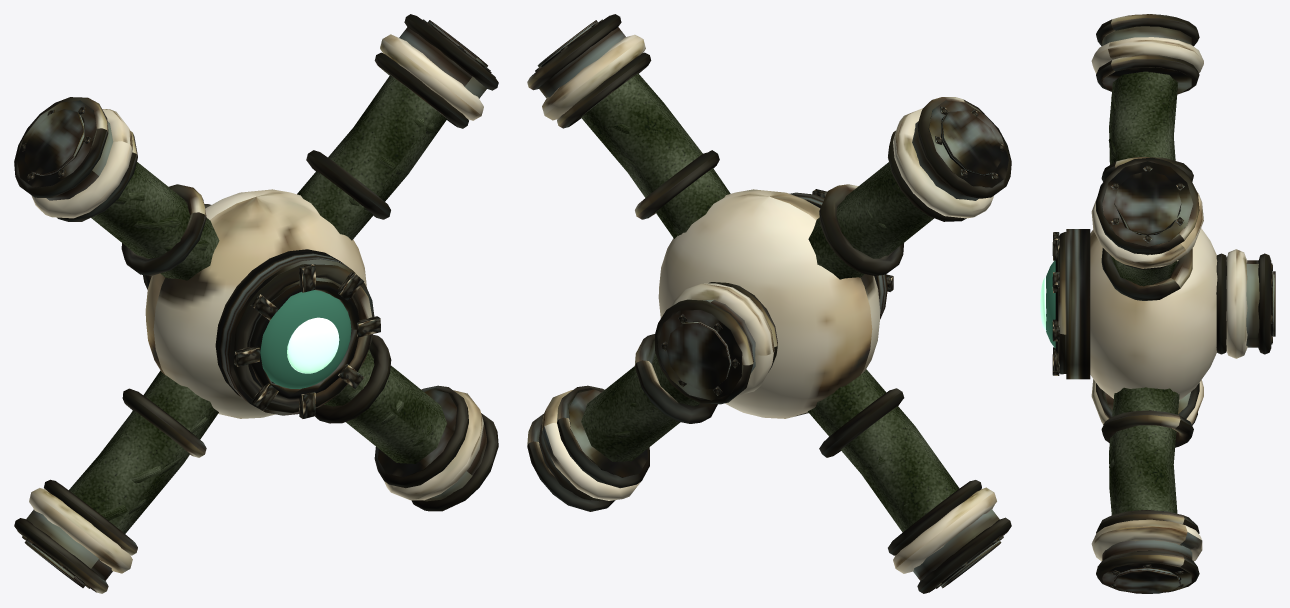
File: organ-commonNerve-icon-v1.glb
3 renders of one model, left to right at view 1: azimuth 30°, elevation 25°; view 2: azimuth 150°, elevation 25°; view 3: azimuth 270°, elevation 25°, orthographic. The views are drawn at different scales.
Visible parts, largest first — view 1: organ-commonNerve-icon-v1-olive, organ-commonNerve-icon-v1-ceramic, organ-commonNerve-icon-v1-brass, organ-commonNerve-icon-v1-steel, organ-commonNerve-icon-v1-glass, organ-commonNerve-icon-v1-light; view 2: organ-commonNerve-icon-v1-ceramic, organ-commonNerve-icon-v1-olive, organ-commonNerve-icon-v1-brass, organ-commonNerve-icon-v1-steel; view 3: organ-commonNerve-icon-v1-ceramic, organ-commonNerve-icon-v1-brass, organ-commonNerve-icon-v1-steel, organ-commonNerve-icon-v1-olive, organ-commonNerve-icon-v1-glass.
Boxes of the visible parts, x1=… form: organ-commonNerve-icon-v1-olive: x1=69, y1=75, x2=446, y2=533; organ-commonNerve-icon-v1-ceramic: x1=29, y1=34, x2=483, y2=573; organ-commonNerve-icon-v1-brass: x1=14, y1=14, x2=498, y2=593; organ-commonNerve-icon-v1-steel: x1=17, y1=16, x2=495, y2=591; organ-commonNerve-icon-v1-glass: x1=260, y1=290, x2=351, y2=388; organ-commonNerve-icon-v1-light: x1=287, y1=317, x2=339, y2=373; organ-commonNerve-icon-v1-ceramic: x1=542, y1=34, x2=996, y2=573; organ-commonNerve-icon-v1-olive: x1=581, y1=73, x2=959, y2=532; organ-commonNerve-icon-v1-brass: x1=527, y1=14, x2=1011, y2=593; organ-commonNerve-icon-v1-steel: x1=532, y1=16, x2=1008, y2=592; organ-commonNerve-icon-v1-ceramic: x1=1090, y1=37, x2=1247, y2=561; organ-commonNerve-icon-v1-brass: x1=1052, y1=14, x2=1272, y2=593; organ-commonNerve-icon-v1-steel: x1=1055, y1=14, x2=1275, y2=593; organ-commonNerve-icon-v1-olive: x1=1108, y1=71, x2=1179, y2=514; organ-commonNerve-icon-v1-glass: x1=1046, y1=260, x2=1055, y2=348.
Size of the model in its own units: 1.11 by 1.11 by 0.5427.
Materials: 4 (2 with a texture image).
